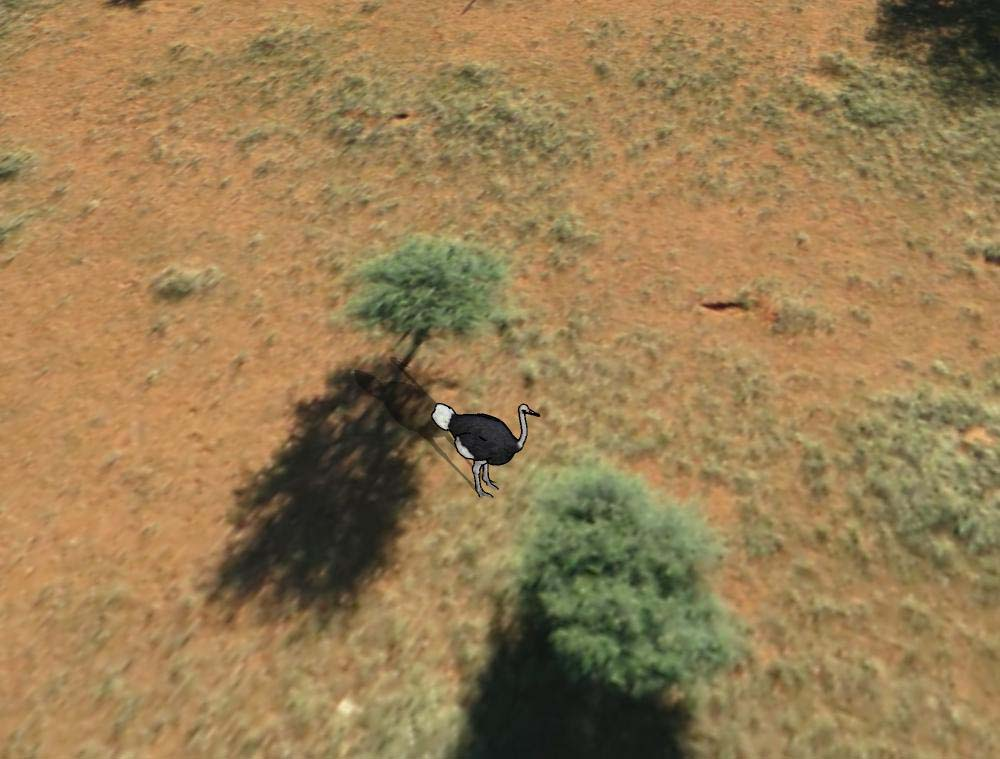springbok: (431, 398, 544, 500)
